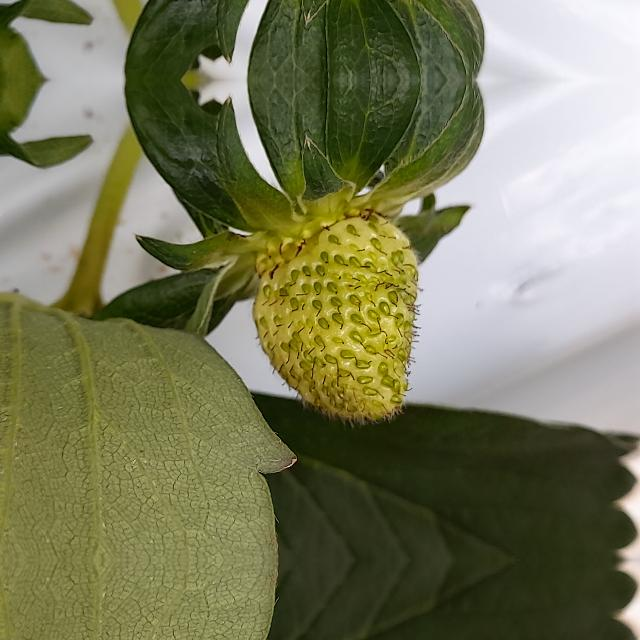Health_25: (251, 215, 423, 428)
